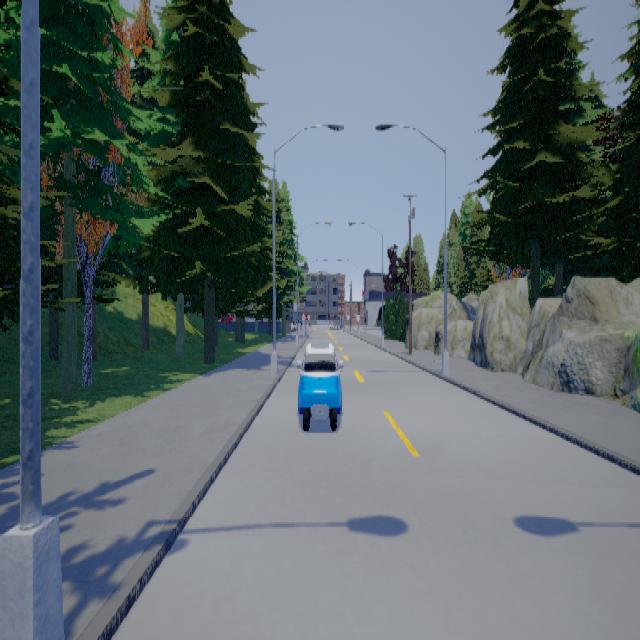vehicle: (296, 338, 345, 429)
